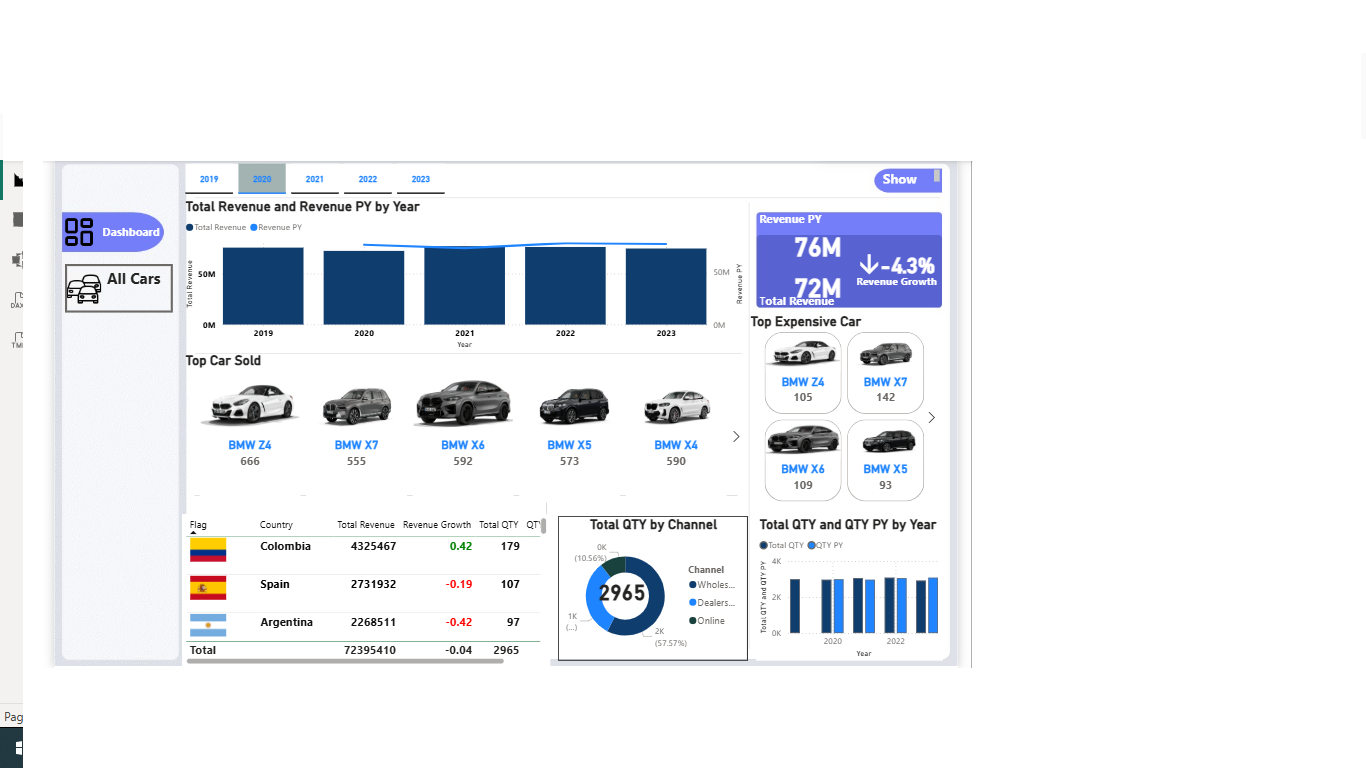

What the dashboard file says about the page in this screenshot:
{"tool":"powerbi","page":{"name":"Dashboard","canvas":[1280,720],"ordinal":0},"visuals":[{"type":"advancedSlicerVisual","fields":{"Values":["DimDate.Year"]},"box":[181.4,0,378,53.8],"z":0},{"type":"card","fields":{"Values":["Measures (2).Total Revenue"]},"box":[994.4,139.4,174.7,77.3],"z":1000},{"type":"card","fields":{"Values":["Measures (2).Revenue PY"]},"box":[994.4,85.7,174.7,68.9],"z":2000},{"type":"textbox","box":[994.4,183.1,204.9,33.6],"z":3000},{"type":"textbox","box":[994.4,67.2,174.7,35.3],"z":4000},{"type":"card","fields":{"Values":["Measures (2).Revenue Growth Arrow%"]},"box":[1107,115.9,173,62.2],"z":5000},{"type":"textbox","box":[1132.2,154.5,127.7,45.4],"z":6000},{"type":"lineClusteredColumnComboChart","fields":{"Category":["DimDate.Year"],"Y":["Measures (2).Total Revenue"],"Y2":["Measures (2).Revenue PY"]},"box":[181.4,53.8,801.3,218.4],"z":7000},{"type":"advancedSlicerVisual","title":"Top Car Sold","fields":{"Values":["Dim Model.Model"]},"box":[181.4,272.1,801.3,218.4],"z":8000},{"type":"advancedSlicerVisual","title":"Top Expensive Car","fields":{"Values":["Dim Model.Model"]},"box":[982.7,216.7,277.2,273.8],"z":9000},{"type":"tableEx","fields":{"Values":["Dim Region.Flag","Dim Region.Country","Measures (2).Total Revenue","Measures (2).Revenue Growth","Measures (2).Total QTY","Measures (2).QTY Growth"]},"box":[181.4,502.3,522.4,218.4],"z":10000},{"type":"donutChart","fields":{"Category":["Dim Channel.Channel"],"Y":["Measures (2).Total QTY"]},"box":[713.9,503.9,268.8,204.9],"z":11000},{"type":"card","fields":{"Values":["Measures (2).Total QTY"]},"box":[677,502.3,255.3,218.4],"z":12000},{"type":"clusteredColumnChart","fields":{"Y":["Measures (2).Total QTY","Measures (2).QTY PY"],"Category":["DimDate.Year"]},"box":[994.4,503.9,265.4,204.9],"z":13000},{"type":"textbox","box":[63.8,147.8,104.1,68.9],"z":14000},{"type":"image","box":[13.4,147.8,58.8,70.6],"z":15000},{"type":"actionButton","box":[15.1,147.8,152.9,68.9],"z":16000},{"type":"image","box":[6.7,67.2,57.1,70.6],"z":17000},{"type":"textbox","box":[63.8,85.7,117.6,35.3],"z":18000},{"type":"textbox","box":[1168.9,9,91.4,30.5],"z":20000},{"type":"actionButton","box":[1169.8,4.7,100.8,39.9],"z":21000}]}

Visuals, with their boxes on the page's 1280x720 design canvas (x1, y1, x2, y2). These are canvas units, not pixel positions in the 1366x768 screenshot, which may show the page scaled, cropped or inside an application window:
advancedSlicerVisual - DimDate.Year: x1=181, y1=0, x2=559, y2=54
card - Measures (2).Total Revenue: x1=994, y1=139, x2=1169, y2=217
card - Measures (2).Revenue PY: x1=994, y1=86, x2=1169, y2=155
textbox: x1=994, y1=183, x2=1199, y2=217
textbox: x1=994, y1=67, x2=1169, y2=102
card - Measures (2).Revenue Growth Arrow%: x1=1107, y1=116, x2=1280, y2=178
textbox: x1=1132, y1=154, x2=1260, y2=200
lineClusteredColumnComboChart - DimDate.Year x Measures (2).Total Revenue: x1=181, y1=54, x2=983, y2=272
"Top Car Sold" advancedSlicerVisual: x1=181, y1=272, x2=983, y2=490
"Top Expensive Car" advancedSlicerVisual: x1=983, y1=217, x2=1260, y2=490
tableEx - Dim Region.Flag x Dim Region.Country: x1=181, y1=502, x2=704, y2=721
donutChart - Dim Channel.Channel x Measures (2).Total QTY: x1=714, y1=504, x2=983, y2=709
card - Measures (2).Total QTY: x1=677, y1=502, x2=932, y2=721
clusteredColumnChart - Measures (2).Total QTY x Measures (2).QTY PY: x1=994, y1=504, x2=1260, y2=709
textbox: x1=64, y1=148, x2=168, y2=217
image: x1=13, y1=148, x2=72, y2=218
actionButton: x1=15, y1=148, x2=168, y2=217
image: x1=7, y1=67, x2=64, y2=138
textbox: x1=64, y1=86, x2=181, y2=121
textbox: x1=1169, y1=9, x2=1260, y2=40
actionButton: x1=1170, y1=5, x2=1271, y2=45
